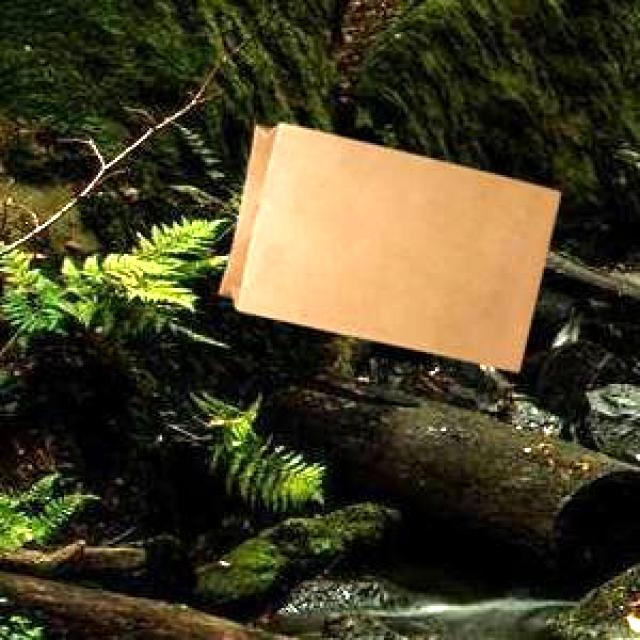Paper_Bag: (216, 120, 558, 368)
